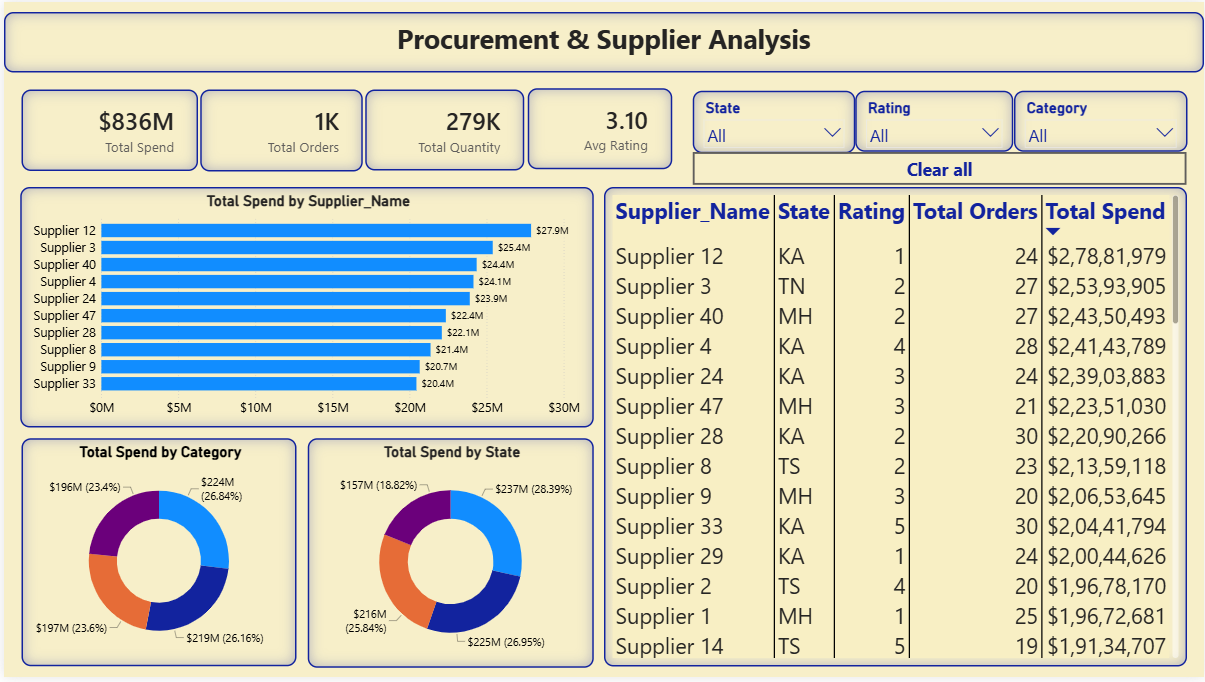

This screenshot's page, from the dashboard's own definition file:
{"tool":"powerbi","page":{"name":"Procurement Analysis","canvas":[1920,1080],"ordinal":5},"visuals":[{"type":"textbox","box":[0,16.7,1920,96.7],"z":0},{"type":"slicer","fields":{"Values":["Suppliers.State"]},"box":[1102.5,142.5,260,100],"z":1000},{"type":"slicer","fields":{"Values":["Suppliers.Rating"]},"box":[1362.5,142.5,252.5,97.5],"z":2000},{"type":"slicer","fields":{"Values":["Products.Category"]},"box":[1615,142.5,277.5,97.5],"z":3000},{"type":"cardVisual","fields":{"Data":["_Measures.Avg Rating"]},"box":[838.2,138.2,230.9,129.4],"z":4000},{"type":"cardVisual","fields":{"Data":["_Measures.Total Spend"]},"box":[27.5,140,282.5,130],"z":5000},{"type":"cardVisual","fields":{"Data":["_Measures.Total Quantity"]},"box":[577.9,139.7,254.4,129.4],"z":6000},{"type":"cardVisual","fields":{"Data":["_Measures.Total Orders"]},"box":[314.7,139.7,260.3,130.9],"z":7000},{"type":"clusteredBarChart","fields":{"Category":["Suppliers.Supplier_Name"],"Y":["_Measures.Total Spend"]},"box":[25,295,917.5,385],"z":8000},{"type":"donutChart","fields":{"Category":["Products.Category"],"Y":["_Measures.Total Spend"]},"box":[27.5,697.5,440,365],"z":9000},{"type":"donutChart","fields":{"Category":["Suppliers.State"],"Y":["_Measures.Total Spend"]},"box":[485,697.5,457.5,367.5],"z":10000},{"type":"tableEx","fields":{"Values":["Suppliers.Supplier_Name","Suppliers.State","Suppliers.Rating","_Measures.Total Orders","_Measures.Total Spend"]},"box":[960,295,932.5,767.5],"z":11000},{"type":"actionButton","box":[1102.5,240,790,52.5],"z":11001}]}

Visuals, with their boxes in screenshot pixels (x1, y1, x2, y2), scaled from the page's 1920x1080 canvas onto the 1205x682 screenshot:
textbox: (left=0, top=11, right=1204, bottom=72)
slicer - Suppliers.State: (left=692, top=90, right=855, bottom=153)
slicer - Suppliers.Rating: (left=855, top=90, right=1014, bottom=152)
slicer - Products.Category: (left=1014, top=90, right=1188, bottom=152)
cardVisual - _Measures.Avg Rating: (left=526, top=87, right=671, bottom=169)
cardVisual - _Measures.Total Spend: (left=17, top=88, right=195, bottom=170)
cardVisual - _Measures.Total Quantity: (left=363, top=88, right=522, bottom=170)
cardVisual - _Measures.Total Orders: (left=198, top=88, right=361, bottom=171)
clusteredBarChart - Suppliers.Supplier_Name x _Measures.Total Spend: (left=16, top=186, right=592, bottom=429)
donutChart - Products.Category x _Measures.Total Spend: (left=17, top=440, right=293, bottom=671)
donutChart - Suppliers.State x _Measures.Total Spend: (left=304, top=440, right=592, bottom=673)
tableEx - Suppliers.Supplier_Name x Suppliers.State: (left=602, top=186, right=1188, bottom=671)
actionButton: (left=692, top=152, right=1188, bottom=185)
